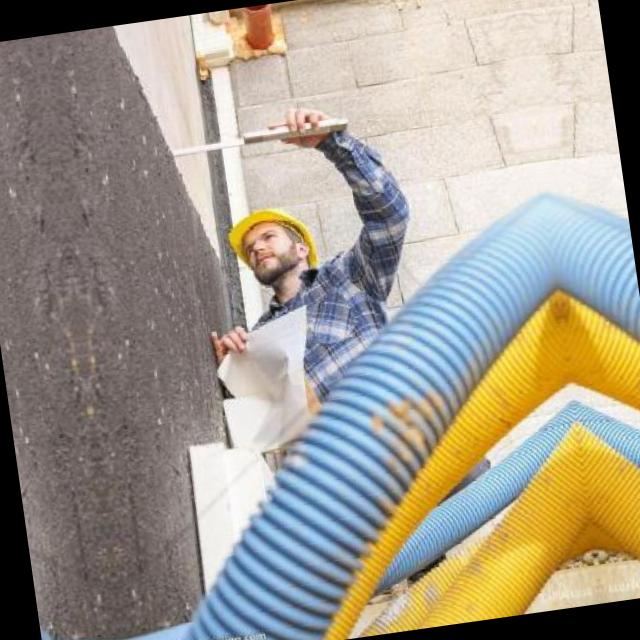helmet: (210, 185, 330, 304)
